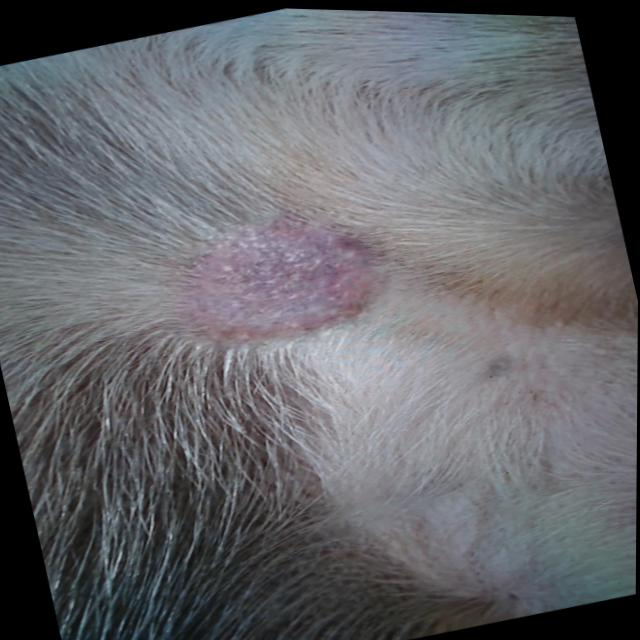ringworm: (157, 191, 408, 363)
